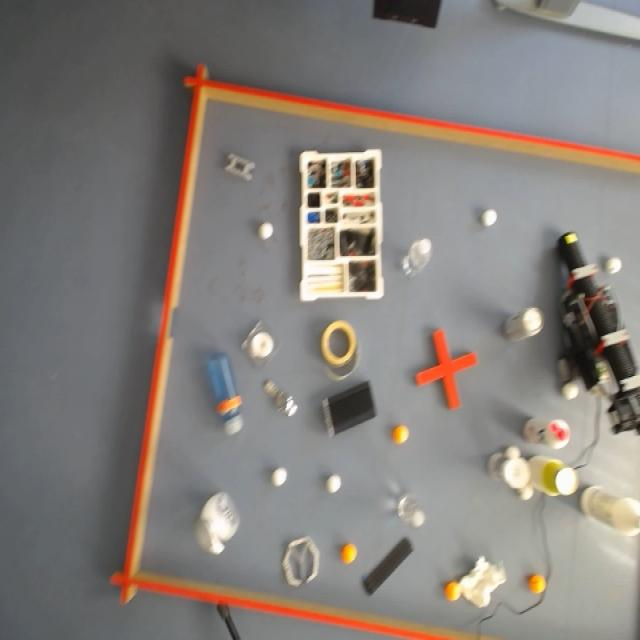orange: (339, 542, 358, 566), (527, 573, 547, 595), (391, 423, 410, 446), (444, 580, 461, 603)
white: (478, 208, 500, 231), (255, 220, 276, 244), (270, 466, 290, 490), (324, 472, 343, 496)
